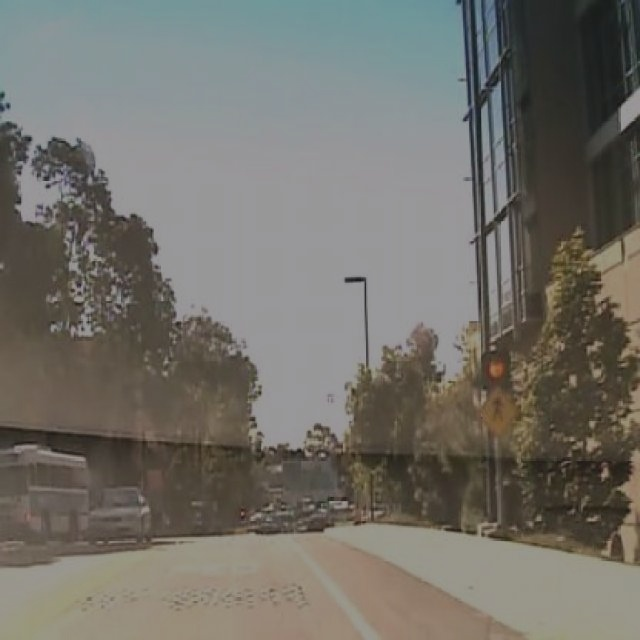pedestrianCrossing: (478, 383, 518, 439)
